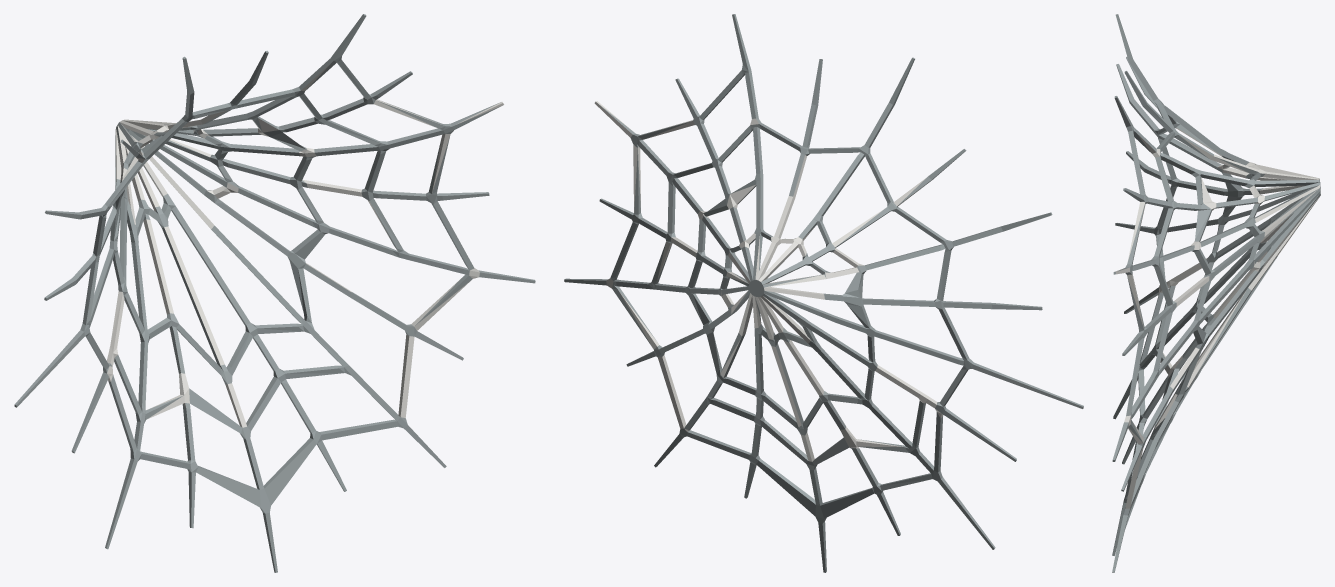
File: WF_LP_HT_Environment_SpiderWeb.003.fbx
3 views of the same model, side by side, from view 1: azimuth 30°, elevation 25°; view 2: azimuth 150°, elevation 25°; view 3: azimuth 270°, elevation 25° (orthographic). The views are drawn at different scales.
Visible parts, largest first — view 1: WF_LP_HT_Environment_SpiderWeb.003; view 2: WF_LP_HT_Environment_SpiderWeb.003; view 3: WF_LP_HT_Environment_SpiderWeb.003.
Boxes of the visible parts, left/top/right/bottom form: WF_LP_HT_Environment_SpiderWeb.003: left=14, top=14, right=535, bottom=572; WF_LP_HT_Environment_SpiderWeb.003: left=564, top=14, right=1083, bottom=572; WF_LP_HT_Environment_SpiderWeb.003: left=1112, top=14, right=1320, bottom=572.
Bounding box in the file's own units: 1.97 × 1.95 × 0.7354.
